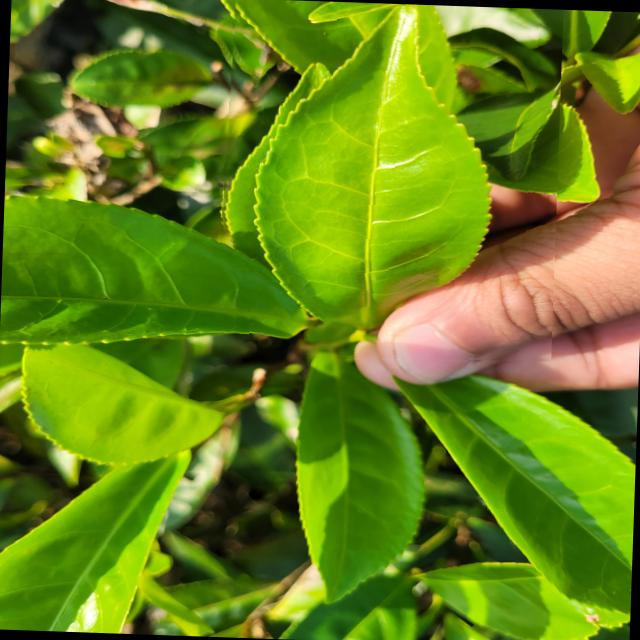Category B 2-4 days: (213, 0, 563, 365)
